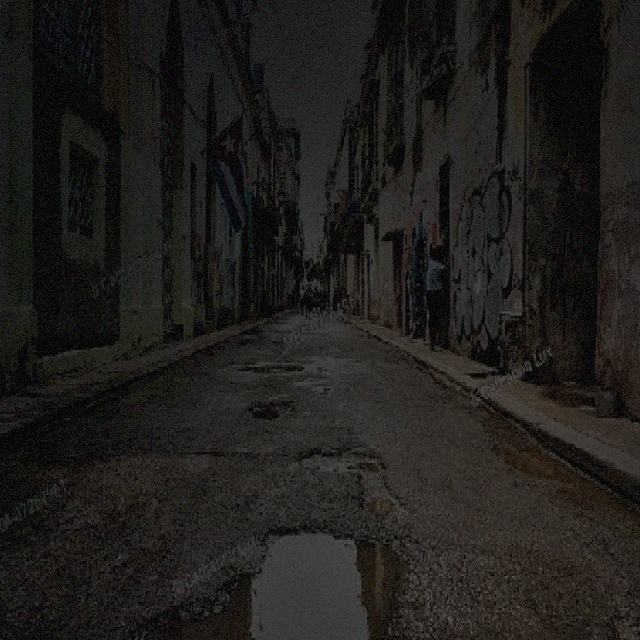pothole: (118, 520, 407, 632), (353, 439, 404, 516), (298, 439, 386, 474), (246, 395, 296, 420), (235, 358, 303, 374)
